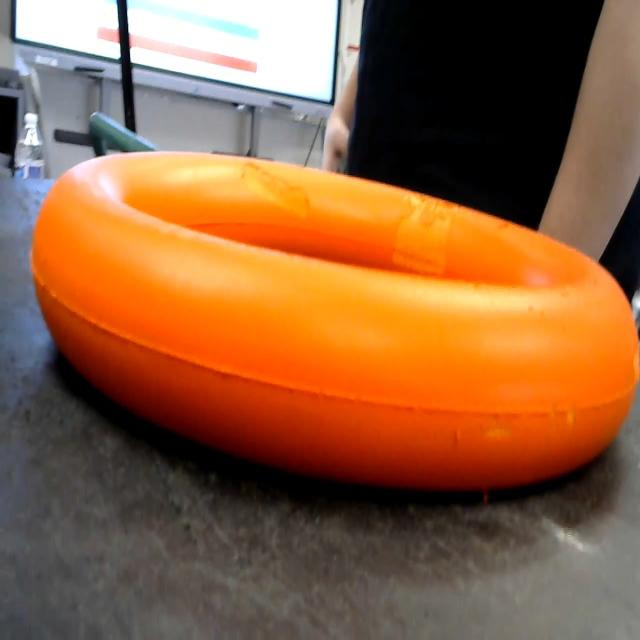note: (23, 124, 640, 522)
